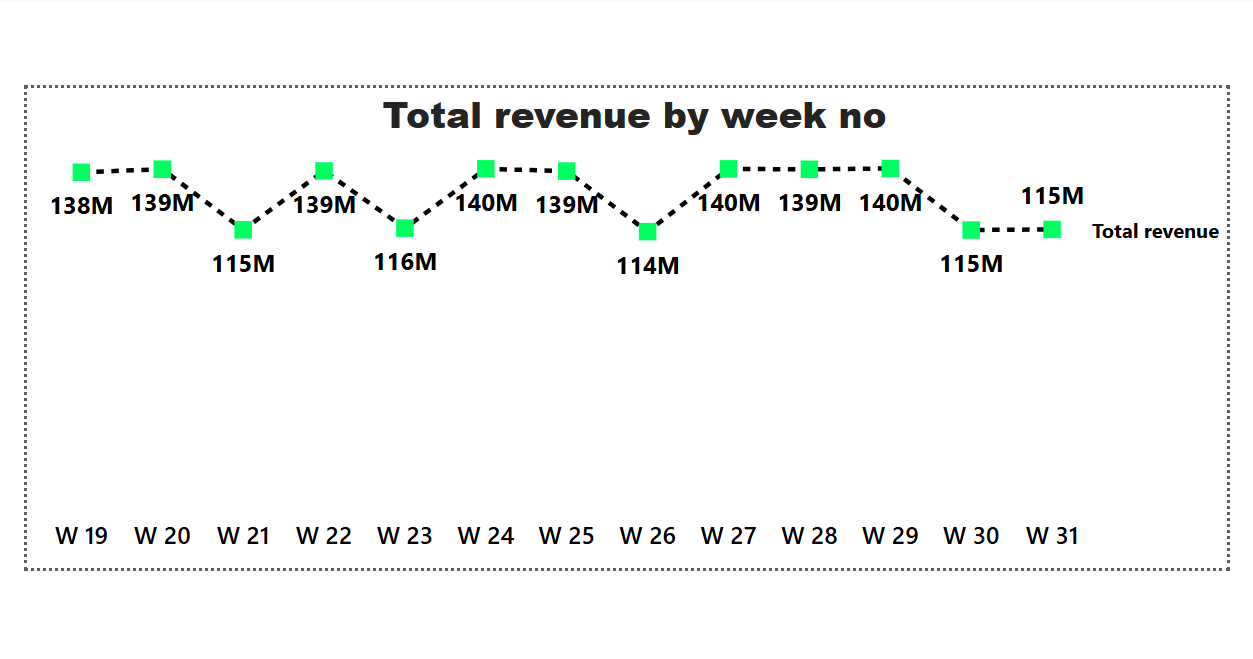

The dashboard page shown, as its layout file describes it:
{"tool":"powerbi","page":{"name":"tt1","canvas":[798,400],"ordinal":6},"visuals":[{"type":"lineChart","fields":{"Category":["dim_date.week no"],"Y":["Imp_measure.Total revenue"]},"box":[0,0,790,320],"z":0}]}

Visuals, with their boxes on the page's 798x400 design canvas (x1, y1, x2, y2). These are canvas units, not pixel positions in the 1253x659 screenshot, which may show the page scaled, cropped or inside an application window:
lineChart - dim_date.week no x Imp_measure.Total revenue: l=0, t=0, r=790, b=320
